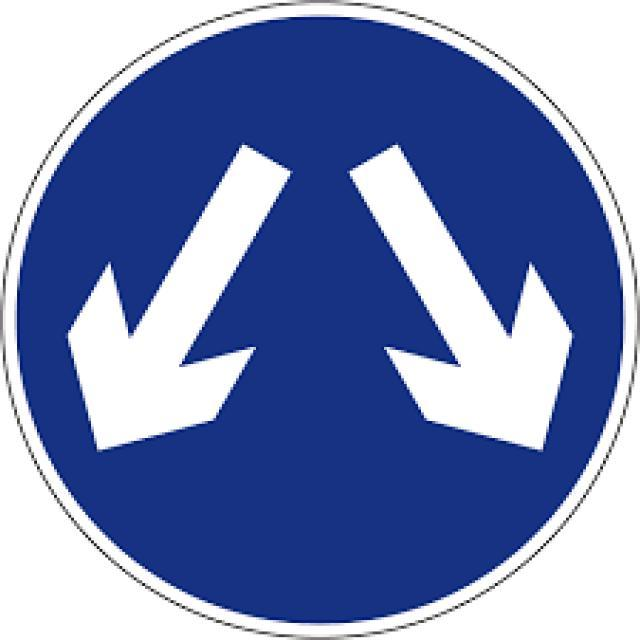pass either side: (24, 21, 623, 627)
